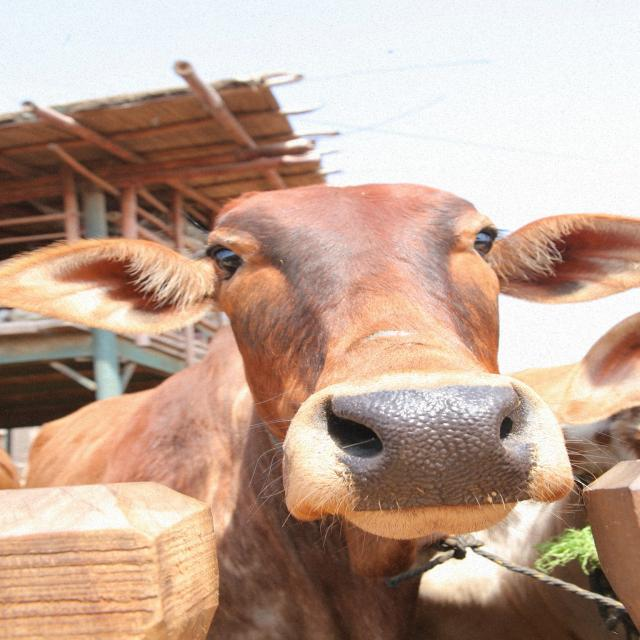muzzles: (317, 384, 550, 506)
